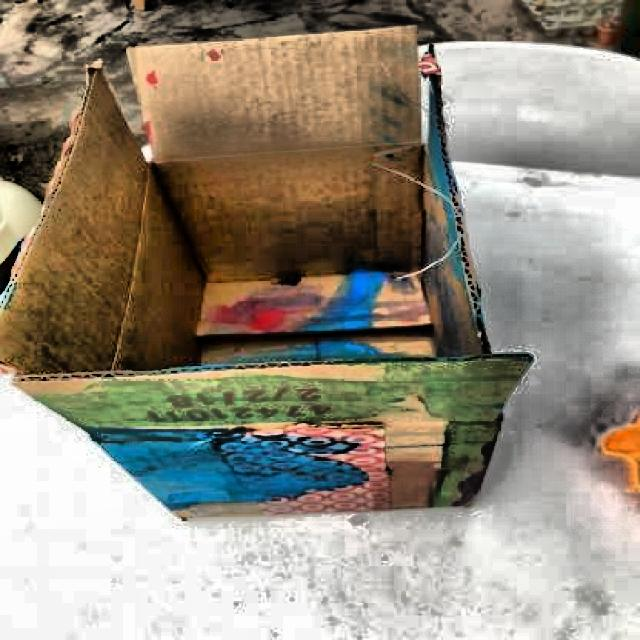Cardbox: (0, 27, 523, 530)
